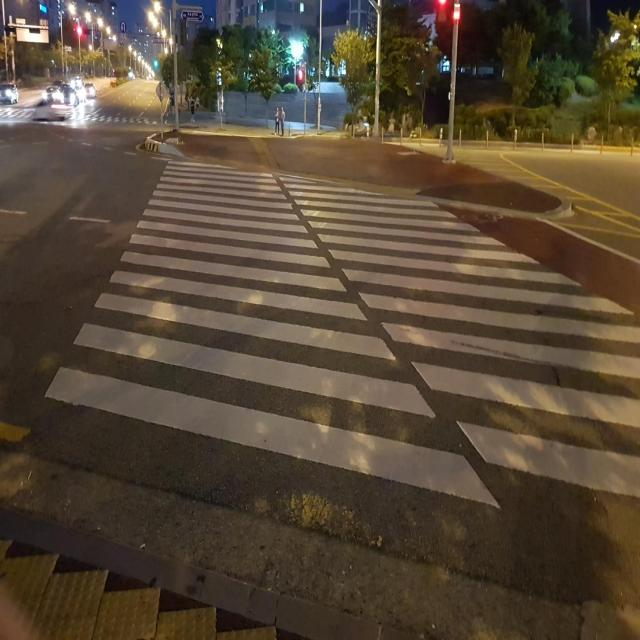횡단보도: (43, 158, 640, 512)
